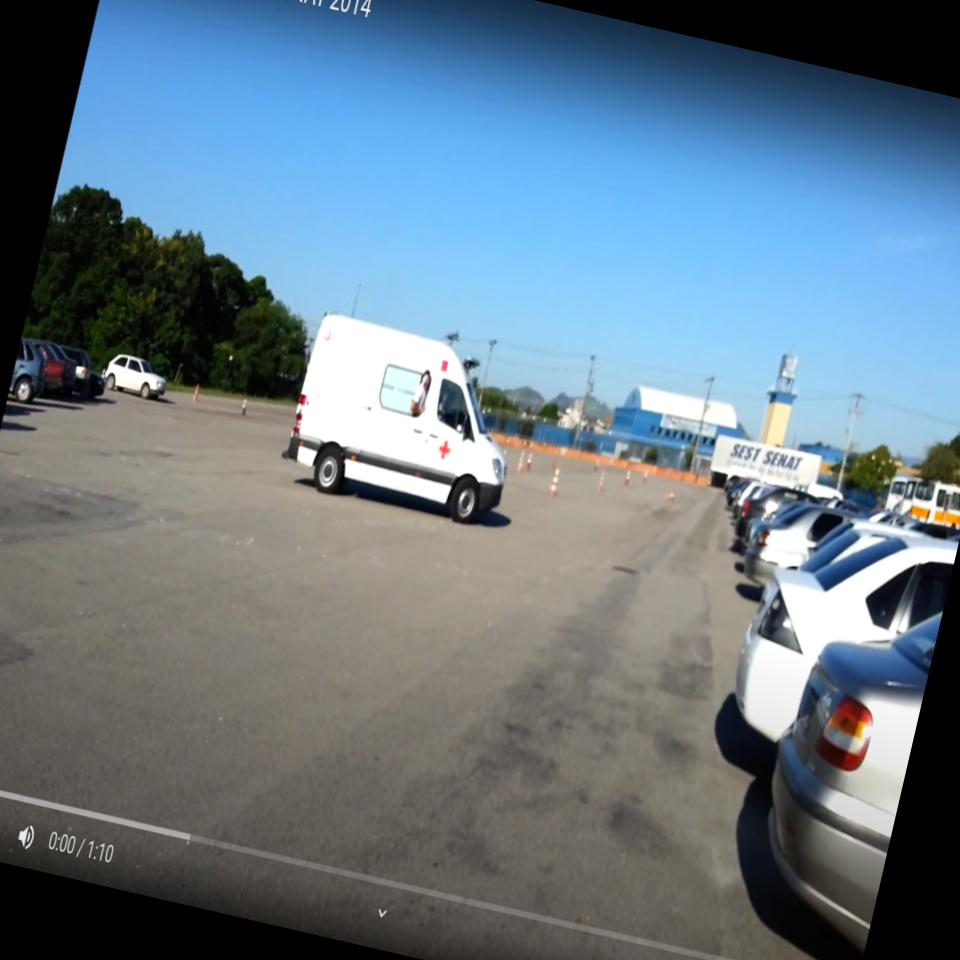bombeiro: (276, 306, 536, 530)
